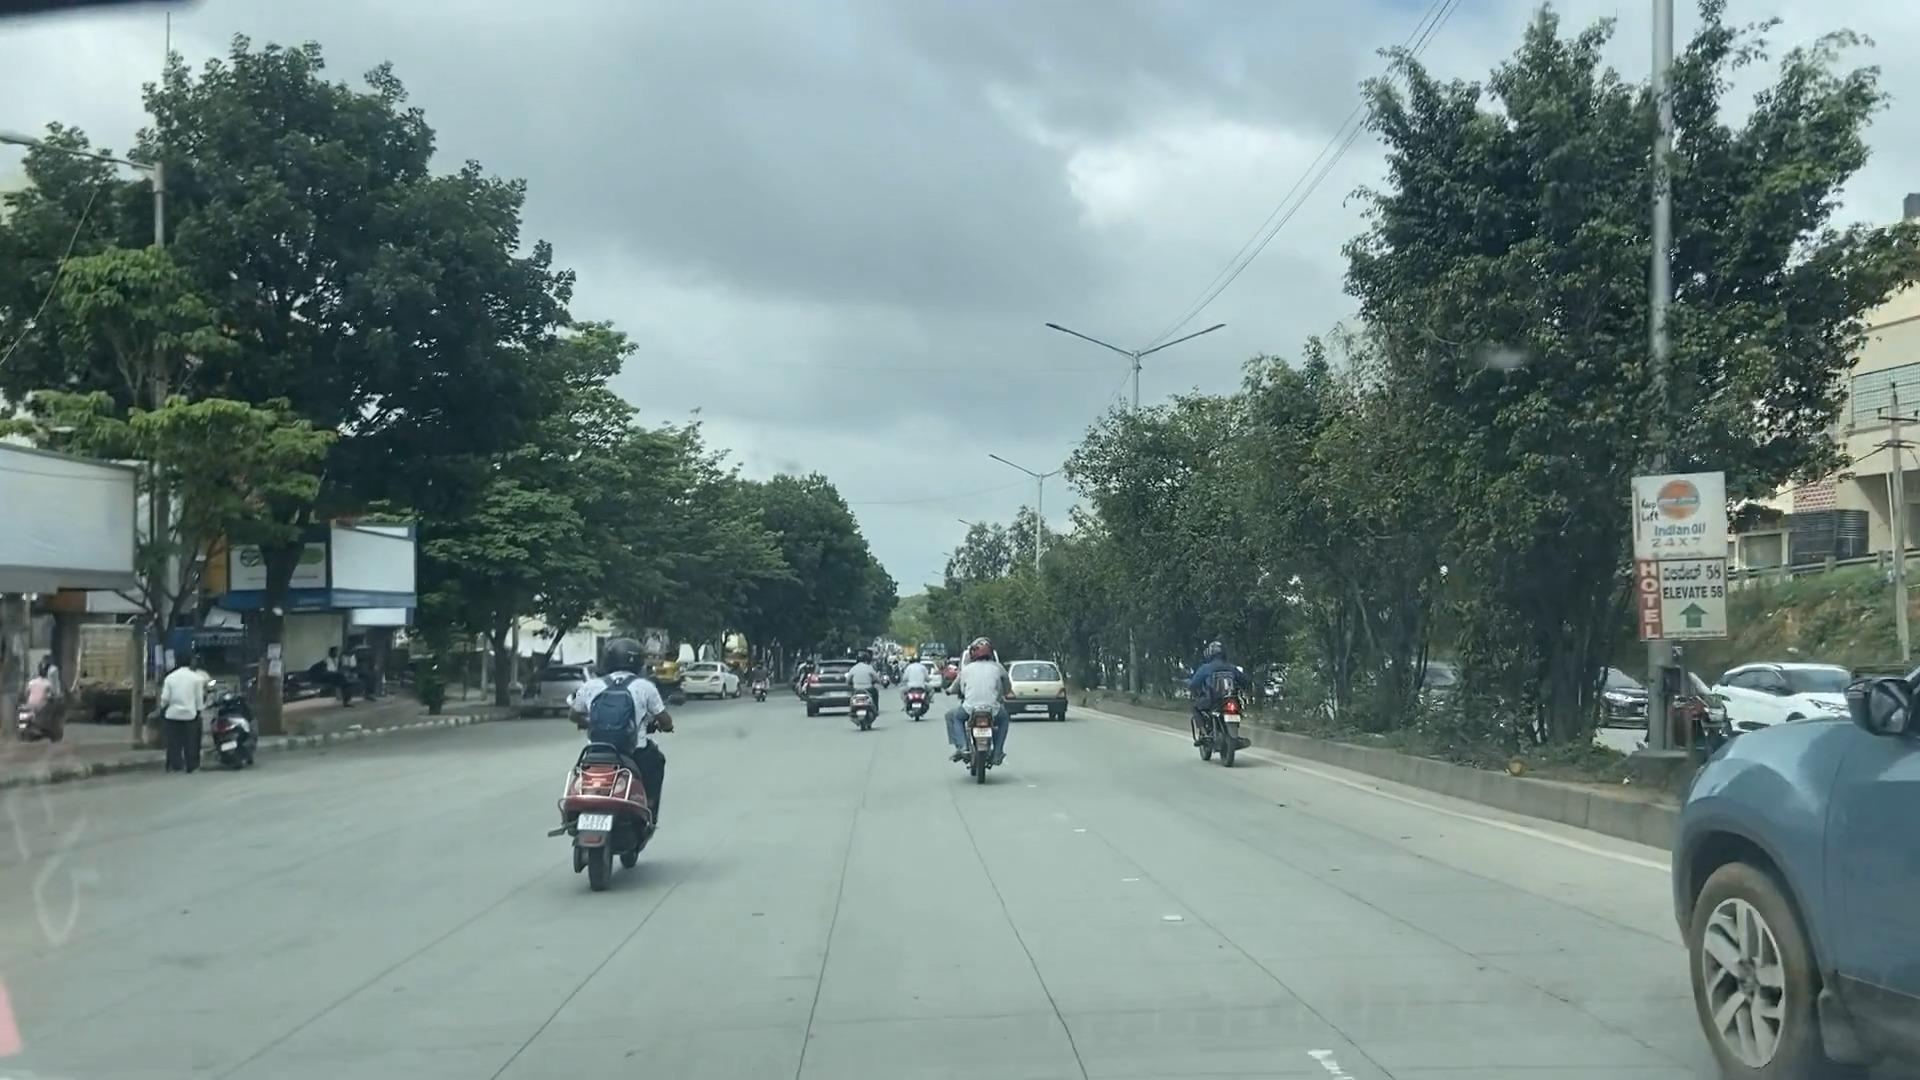LMV: (1179, 616, 1265, 791)
